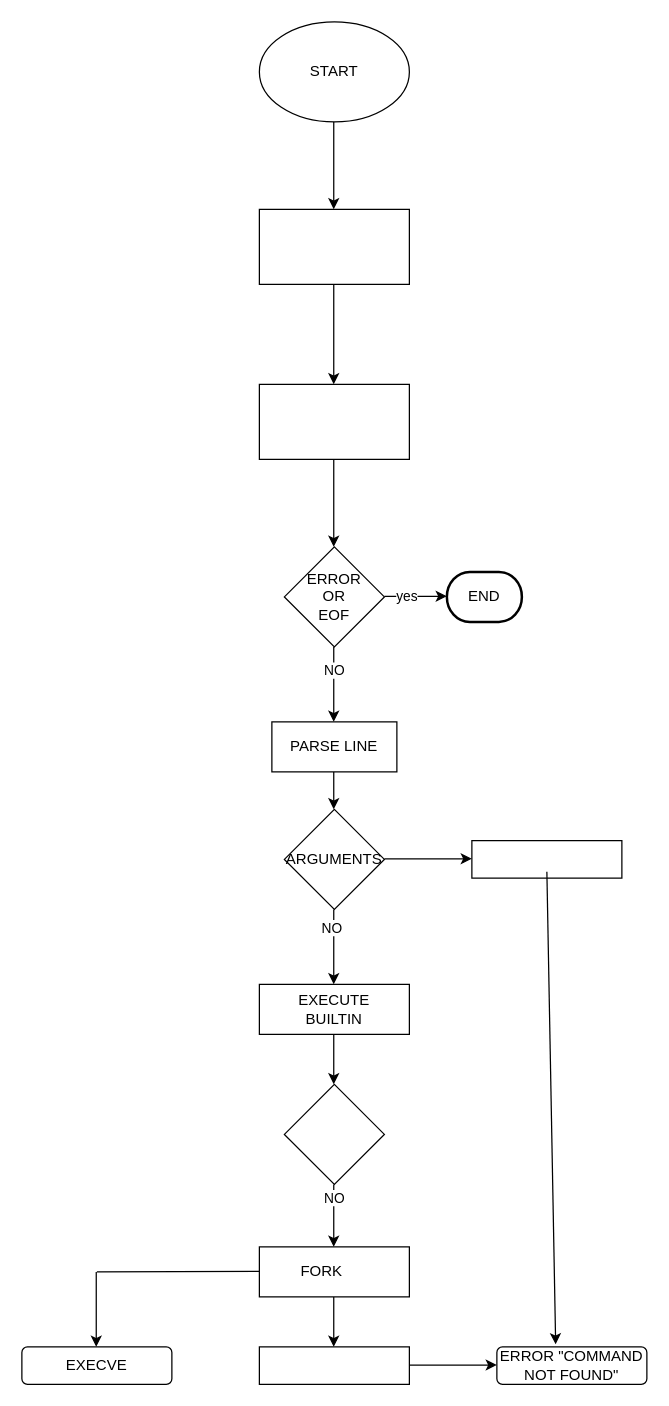
This 669x1406 diagram has some shape labels left out. The shapes that lost their labels are listed below. From the top down, each one's centre as x and y in pixels, then its label:
At pixel 333 246: "CALL LOOP()".
At pixel 333 421: "DISPLAY PROMPT + READ LINE WITH GETLINE".
At pixel 546 858: "FIND IN PATH".
At pixel 333 1133: "FOUND".
At pixel 333 1365: "WAIT".
